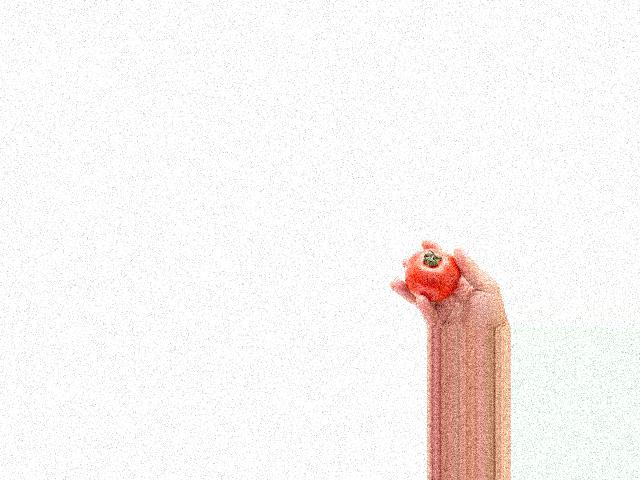tomato: (404, 249, 460, 301)
